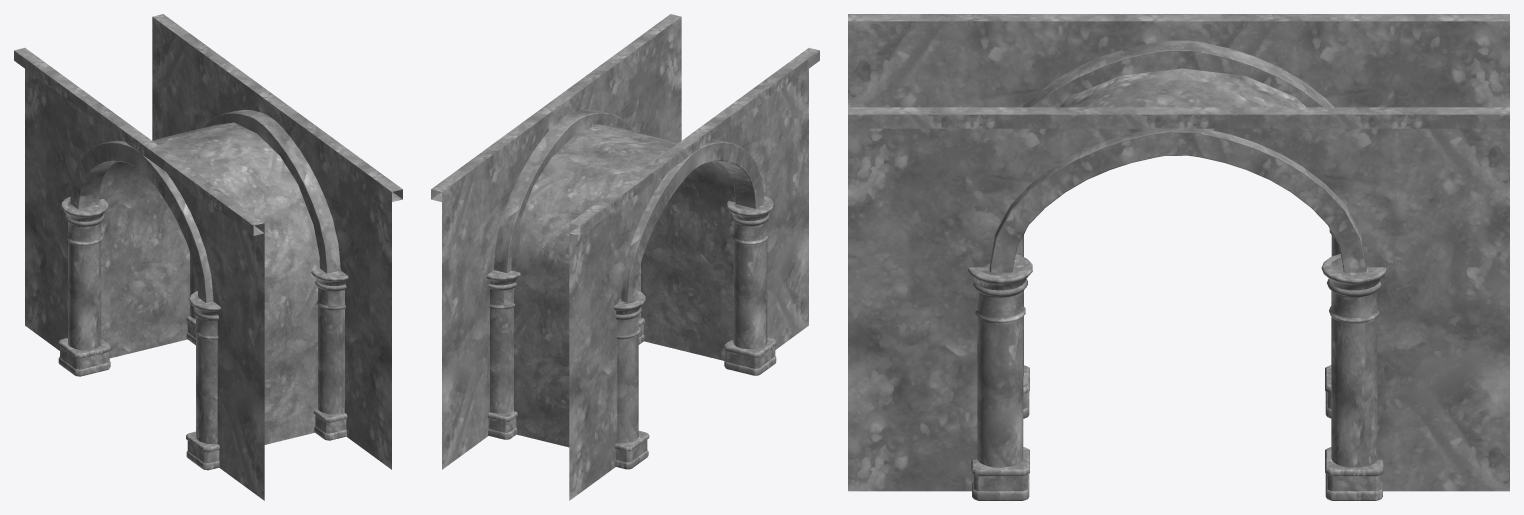
File: SM_WallArch_01a.fbx
3 renders of one model, left to right at view 1: azimuth 30°, elevation 25°; view 2: azimuth 150°, elevation 25°; view 3: azimuth 270°, elevation 25°, orthographic. The views are drawn at different scales.
Visible parts, largest first — view 1: SM_WallArch_01a_LOD0; view 2: SM_WallArch_01a_LOD0; view 3: SM_WallArch_01a_LOD0.
Part boxes in pixels (x1=…): SM_WallArch_01a_LOD0: x1=14, y1=14, x2=402, y2=500; SM_WallArch_01a_LOD0: x1=431, y1=14, x2=819, y2=500; SM_WallArch_01a_LOD0: x1=848, y1=14, x2=1509, y2=500.
Size of the model in its own units: 294 by 750 by 480.
